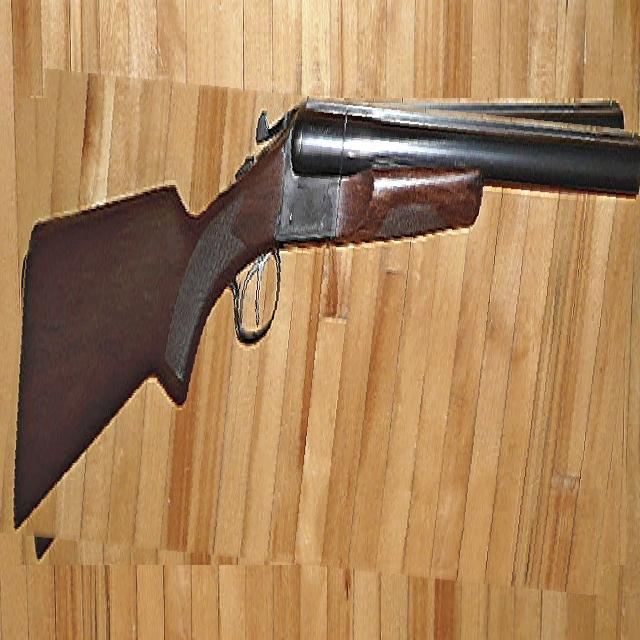gun: (8, 83, 637, 580)
